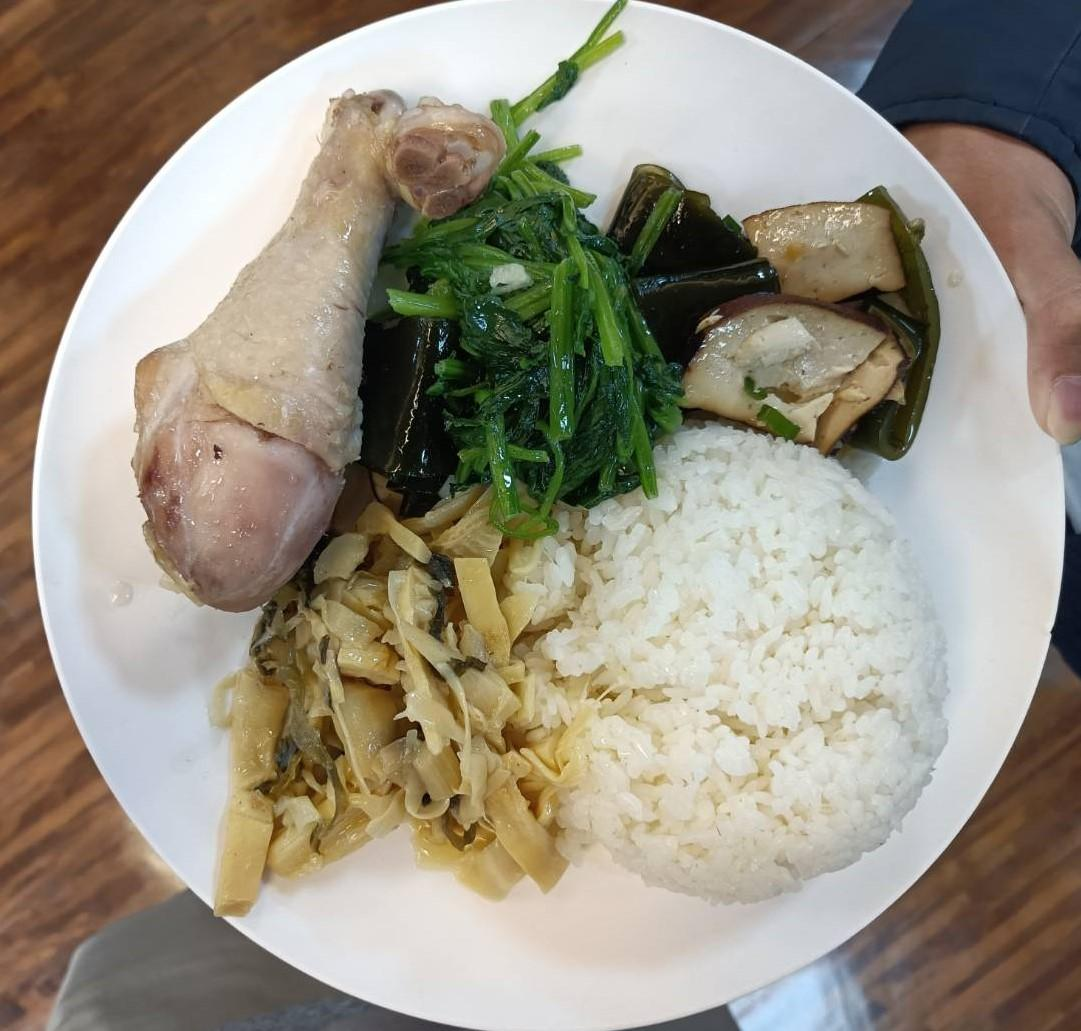big fried chicken leg: (8, 0, 1081, 1019)
big herbal chicken leg: (524, 438, 946, 905)
braised fish fillet: (214, 488, 568, 923), (416, 96, 672, 498), (604, 161, 943, 462)
braised pork: (120, 79, 501, 609)
